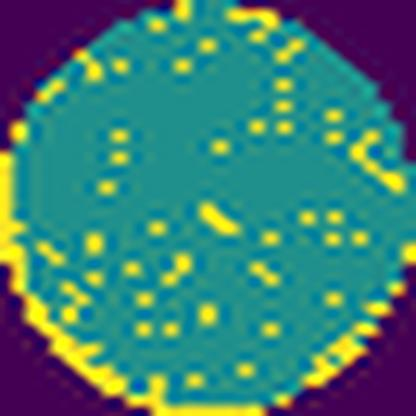Edge-Loc: (0, 144, 268, 416), (308, 276, 412, 394)
